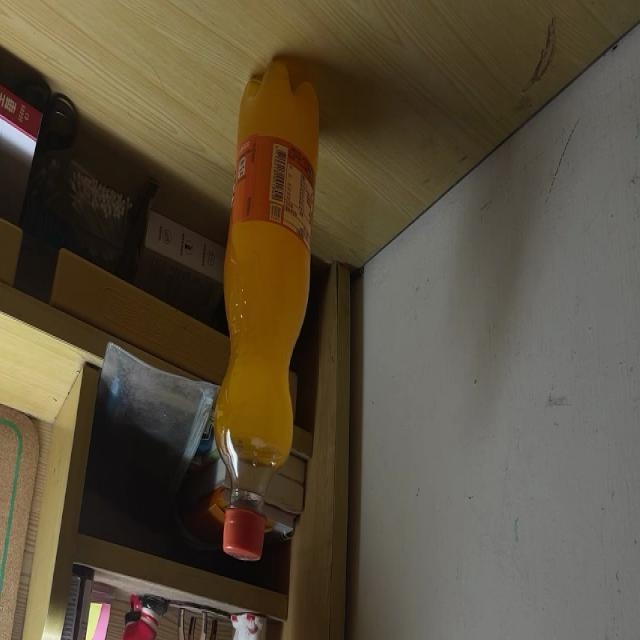Fanta: (214, 63, 320, 563)
